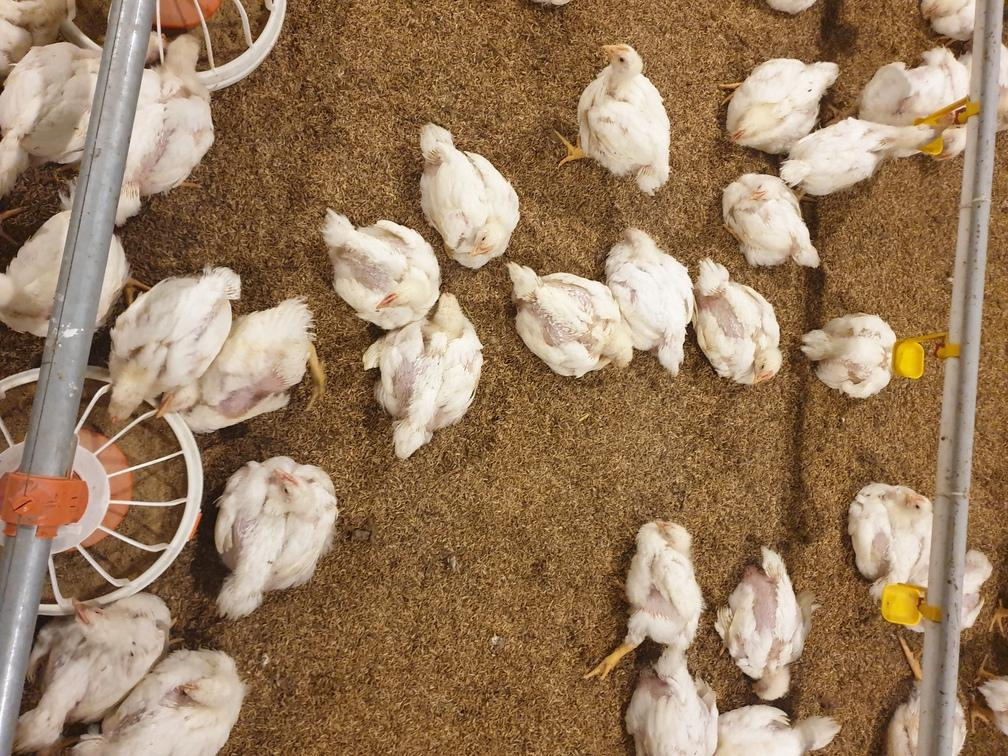Pollos: (100, 258, 239, 432), (559, 37, 678, 187), (218, 452, 328, 602), (416, 116, 528, 258), (499, 261, 636, 371), (721, 547, 815, 700), (387, 295, 485, 440), (794, 112, 930, 203), (686, 258, 780, 382), (318, 215, 429, 310), (630, 510, 701, 656), (621, 217, 689, 367), (731, 51, 847, 131), (800, 310, 903, 397), (726, 170, 816, 269), (852, 483, 935, 581)
